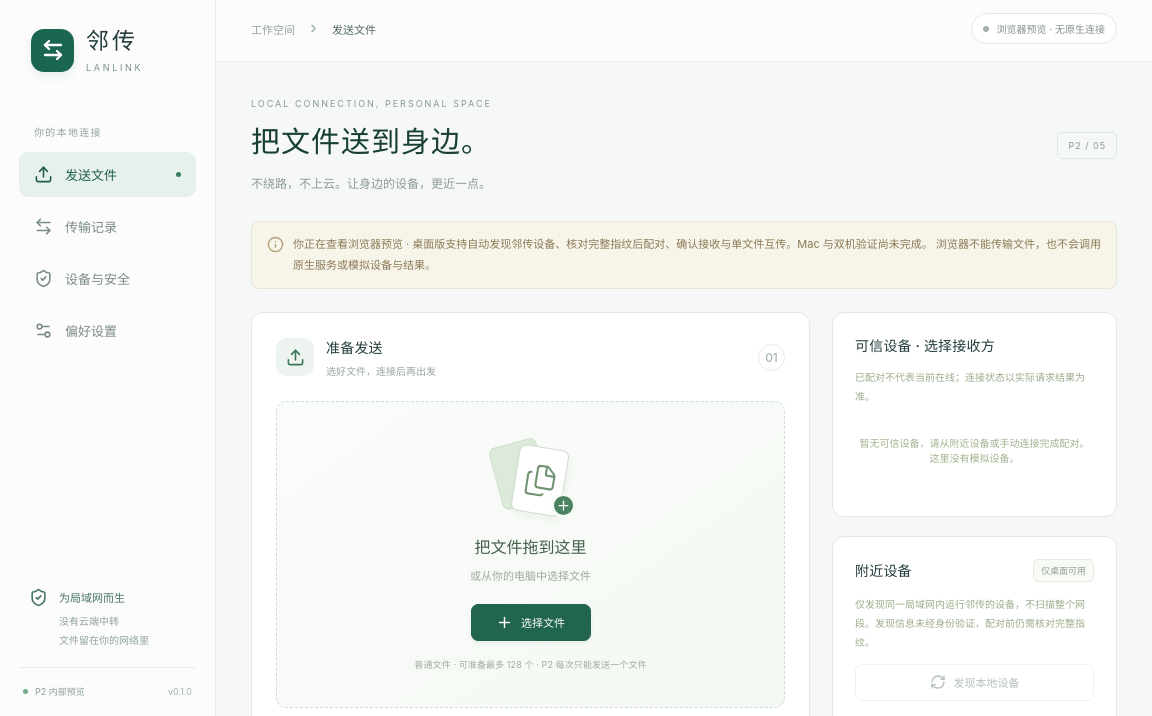
Test: browser preview › does not allow saving native settings from preview
Click the button "偏好设置" at x=108, y=330, box [19,308,196,353]
(page scrolled)
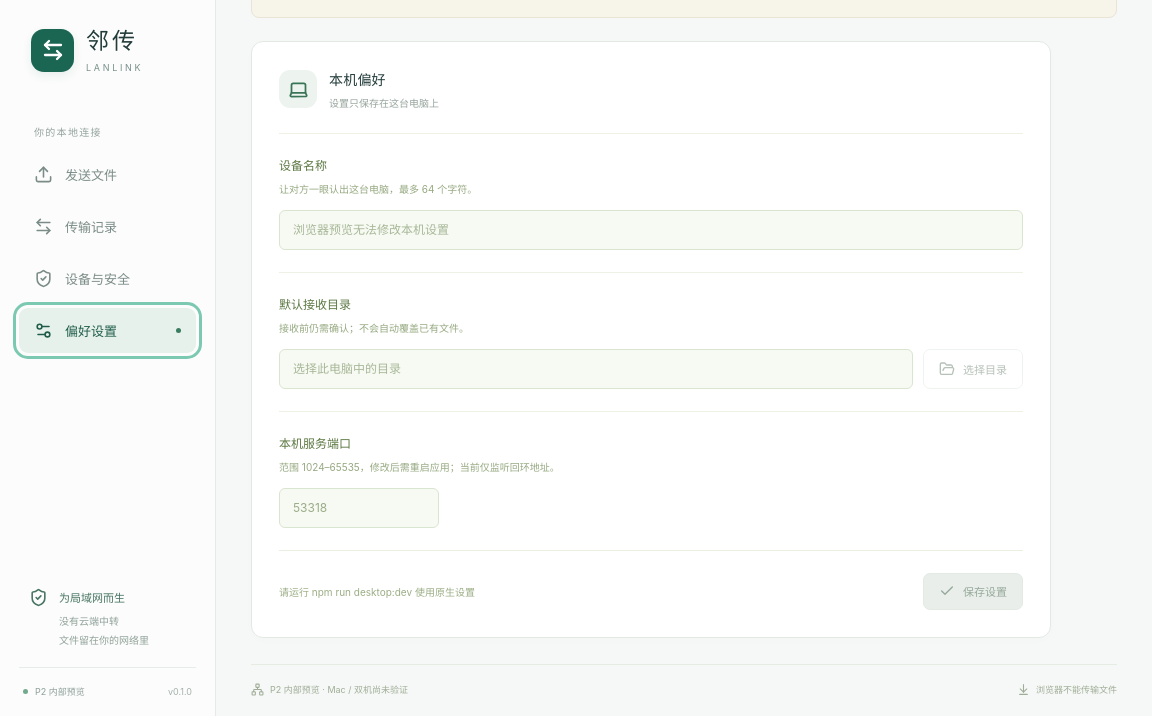
Now the field labelled "设备名称" is disabled, box [279,210,1023,250]
Now the button "保存设置" is disabled, box [923,573,1023,610]
